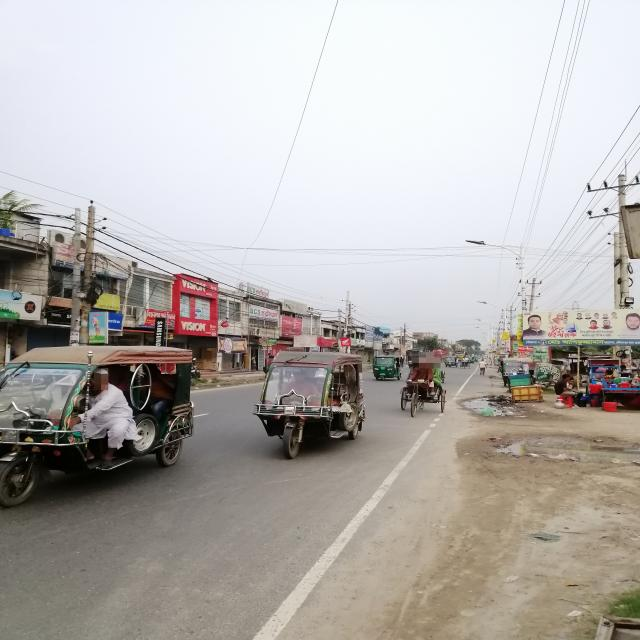Easybike: (1, 343, 208, 506), (244, 353, 365, 460)
